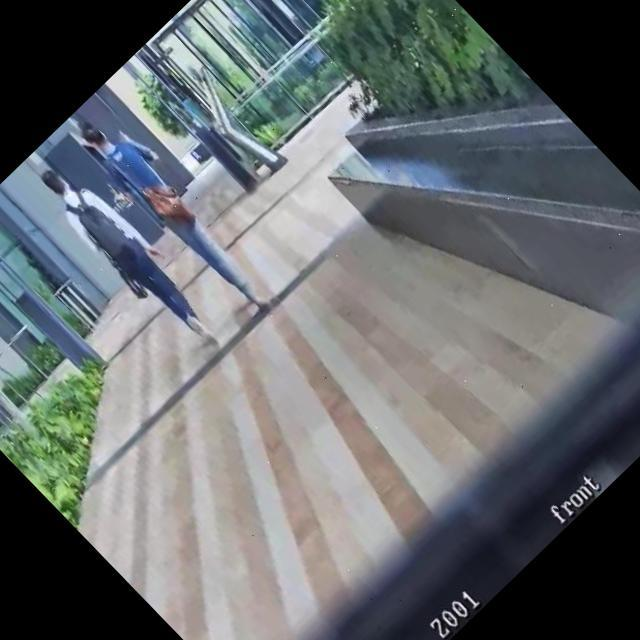person: (68, 98, 289, 324), (29, 151, 232, 360)
